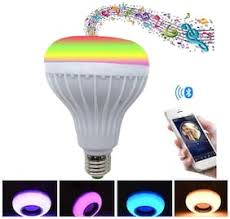bulb: (44, 31, 150, 148)
